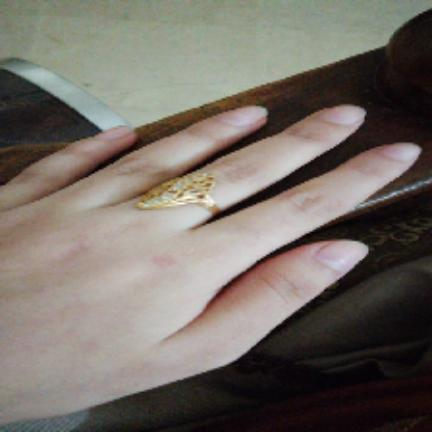Nail: (314, 241, 369, 273), (220, 106, 268, 128), (321, 104, 367, 124), (380, 143, 422, 161), (98, 125, 130, 140)
